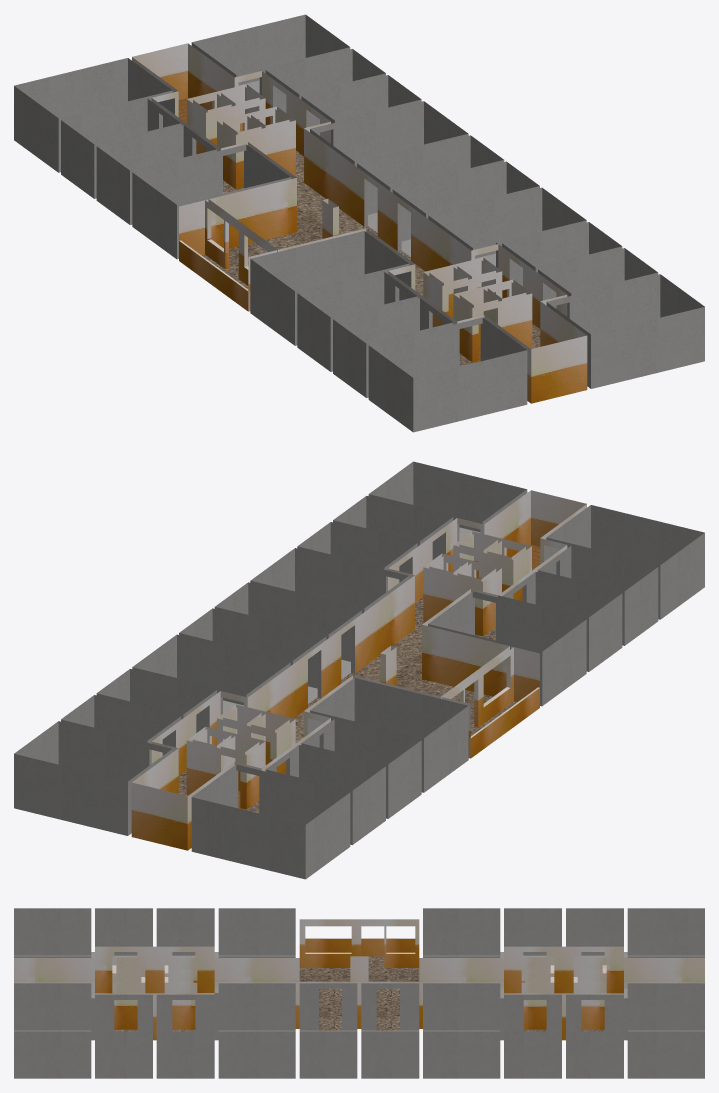
File: obshaga_Backup.fbx
3 views of the same model, one above another, from view 1: azimuth 30°, elevation 25°; view 2: azimuth 150°, elevation 25°; view 3: azimuth 270°, elevation 25° (orthographic). The views are drawn at different scales.
Parts seen in each view (by area): view 1: Плоскость; view 2: Плоскость; view 3: Плоскость.
Part boxes in pixels (bbox=[...]): Плоскость: bbox=[14, 14, 704, 432]; Плоскость: bbox=[14, 461, 704, 879]; Плоскость: bbox=[14, 908, 704, 1078].
Size of the model in its own units: 1510 by 270 by 3580.
Materials: 4 (4 with a texture image).
